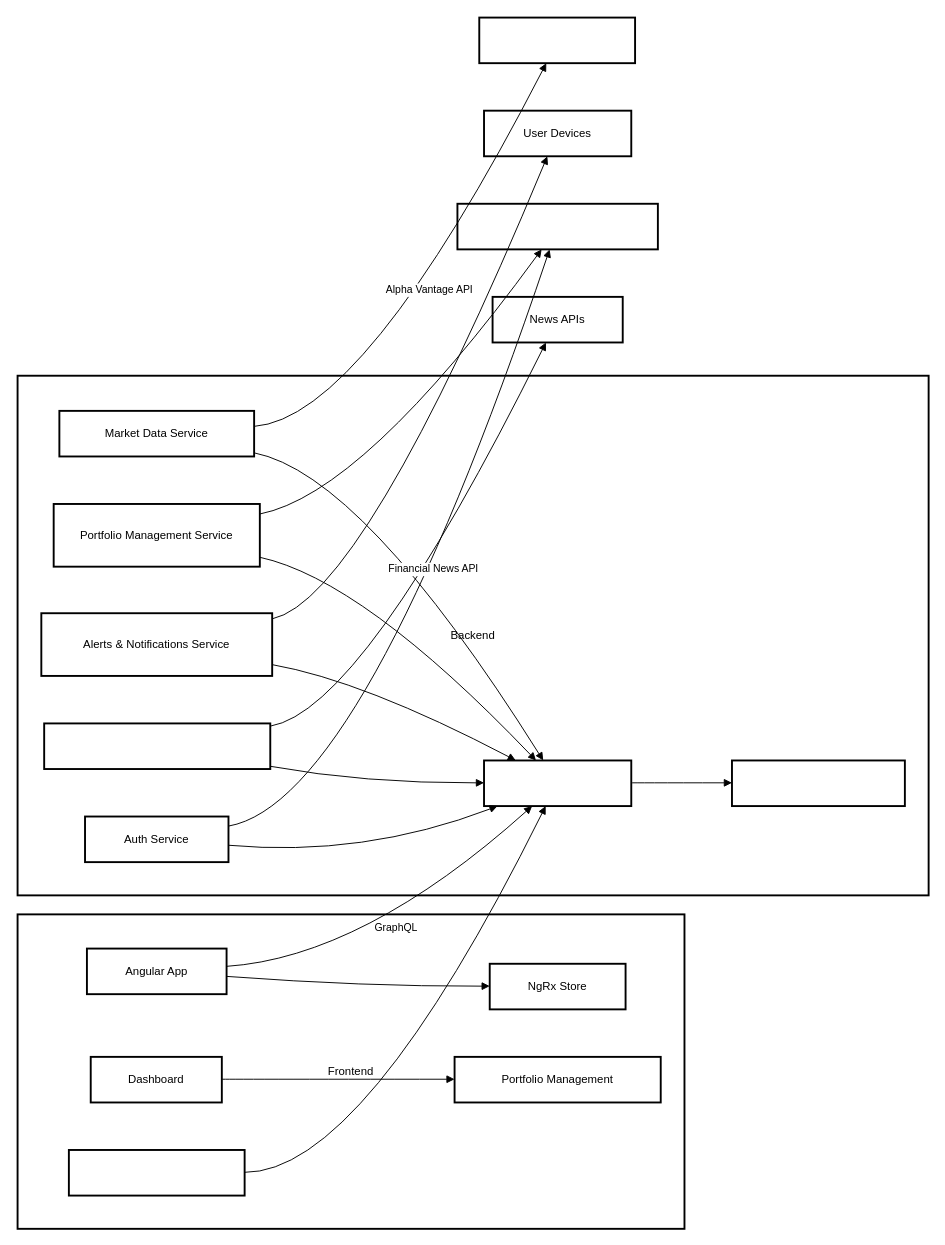
Image size: 945x1245. Some labels were removed from this diagram. Each missing label, with the centre of its shape:
"Alpha Vantage" goes at (557,40).
"Azure SQL Database" goes at (557,226).
"GraphQL API" goes at (557,783).
"Interactive Charts" goes at (156,1172).
"Java Spring Boot" goes at (818,783).
"News Integration Service" goes at (157,746).
